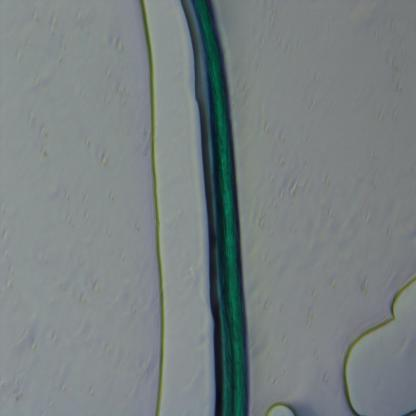Air bubble: (137, 0, 180, 414), (340, 272, 416, 414), (262, 400, 298, 415)
Microfibre: (190, 0, 251, 414)
